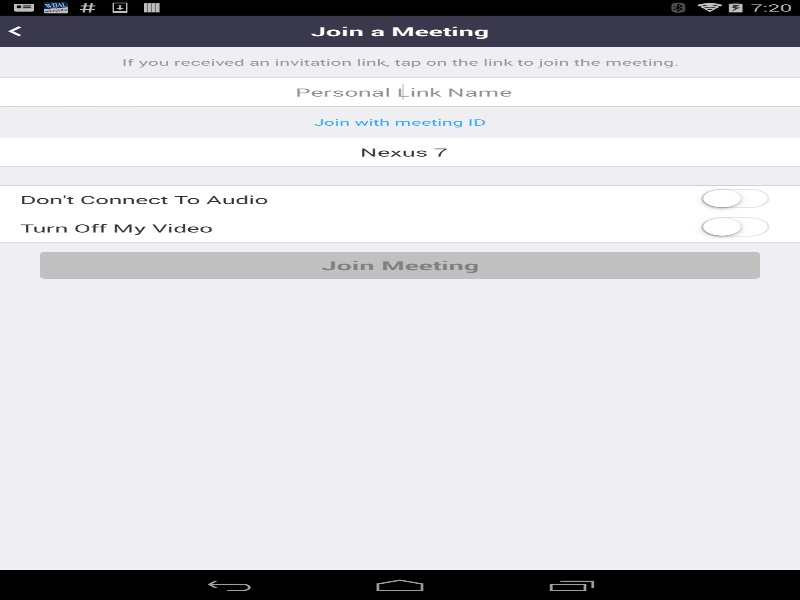Button: (40, 251, 760, 278), (0, 112, 800, 131), (4, 19, 45, 43)
Input: (20, 73, 786, 110), (20, 144, 786, 159)
